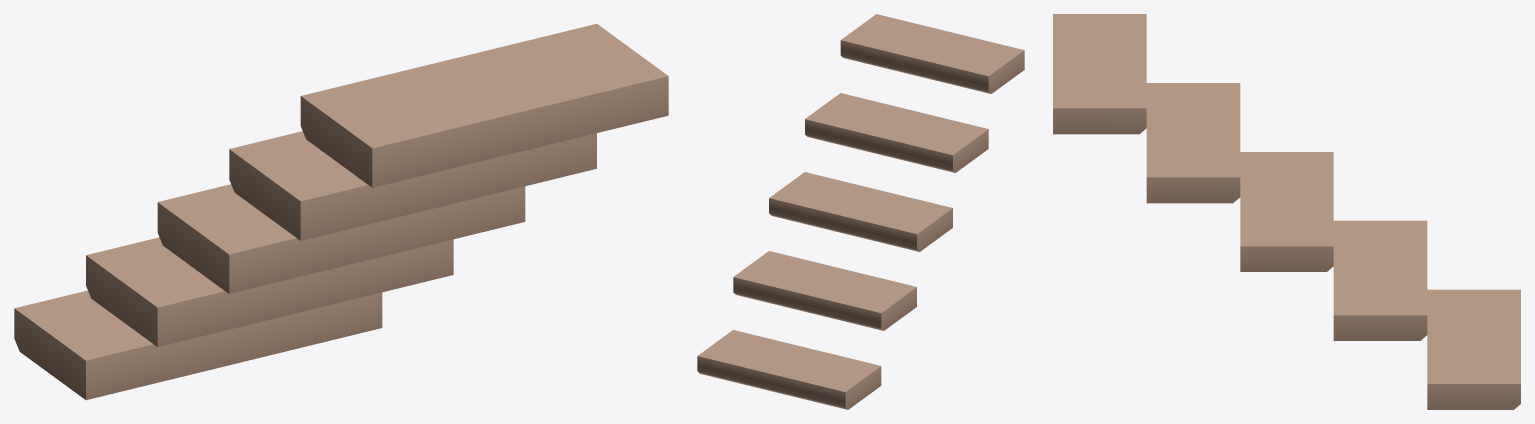
Rendered from stairs-floating-half.glb.
3 views of the same model, side by side, from view 1: azimuth 30°, elevation 25°; view 2: azimuth 150°, elevation 25°; view 3: azimuth 270°, elevation 25° (orthographic). The views are drawn at different scales.
Visible parts, largest first — view 1: stairs-floating-half; view 2: stairs-floating-half; view 3: stairs-floating-half.
Part boxes in pixels (left/top/right/bottom): stairs-floating-half: left=14, top=23, right=668, bottom=400; stairs-floating-half: left=697, top=14, right=1024, bottom=409; stairs-floating-half: left=1053, top=14, right=1520, bottom=409.
Bounding box in the file's own units: 0.6514 × 0.9699 × 1.36.
